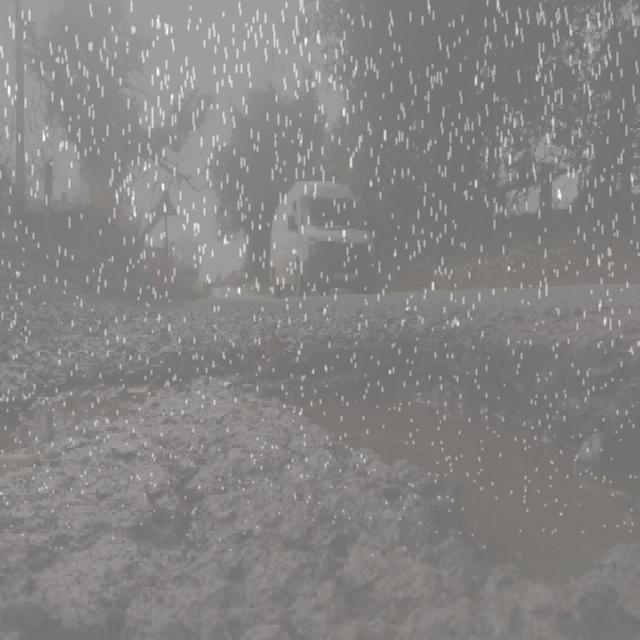Pothole: (205, 316, 640, 640), (0, 361, 168, 490)
